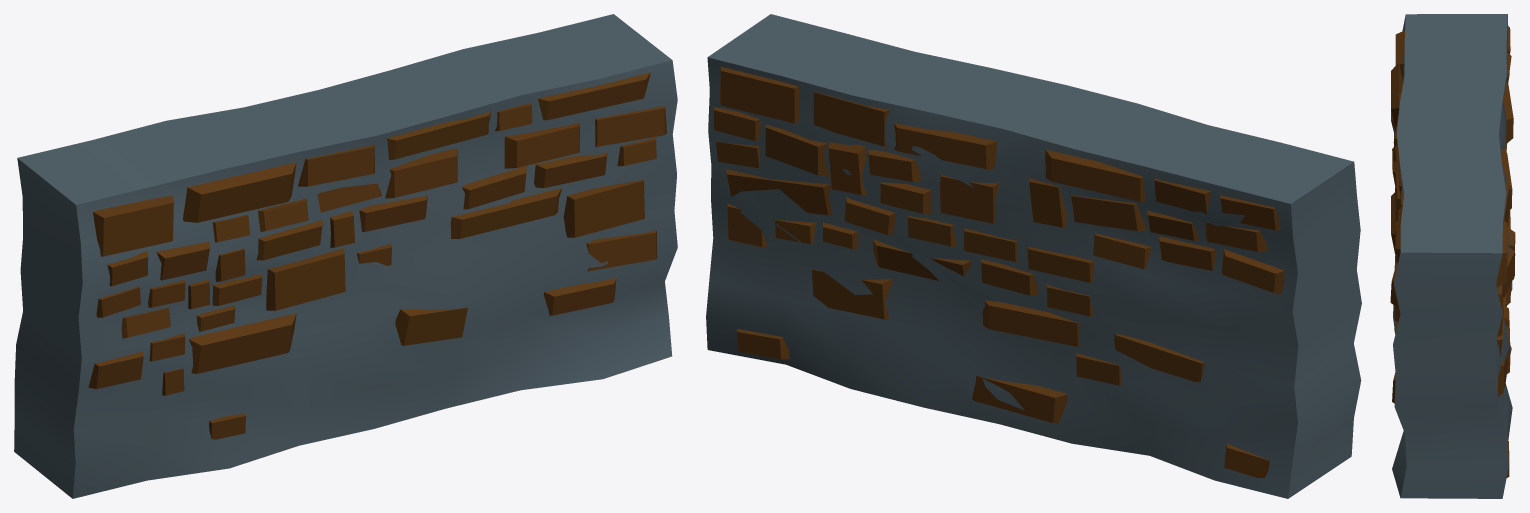
File: Ruins_Ground_6.FBX
3 views of the same model, side by side, from view 1: azimuth 30°, elevation 25°; view 2: azimuth 150°, elevation 25°; view 3: azimuth 270°, elevation 25° (orthographic). The views are drawn at different scales.
Visible parts, largest first — view 1: Box004, Box006; view 2: Box004, Box005; view 3: Box004, Box005, Box006.
Part boxes in pixels (left/top/right/bottom): Box004: left=14, top=14, right=677, bottom=498; Box006: left=88, top=72, right=666, bottom=439; Box004: left=706, top=14, right=1361, bottom=498; Box005: left=713, top=66, right=1284, bottom=477; Box004: left=1392, top=14, right=1515, bottom=498; Box005: left=1496, top=26, right=1515, bottom=477; Box006: left=1390, top=30, right=1404, bottom=403.
Size of the model in its own units: 124 by 58.99 by 26.93.
